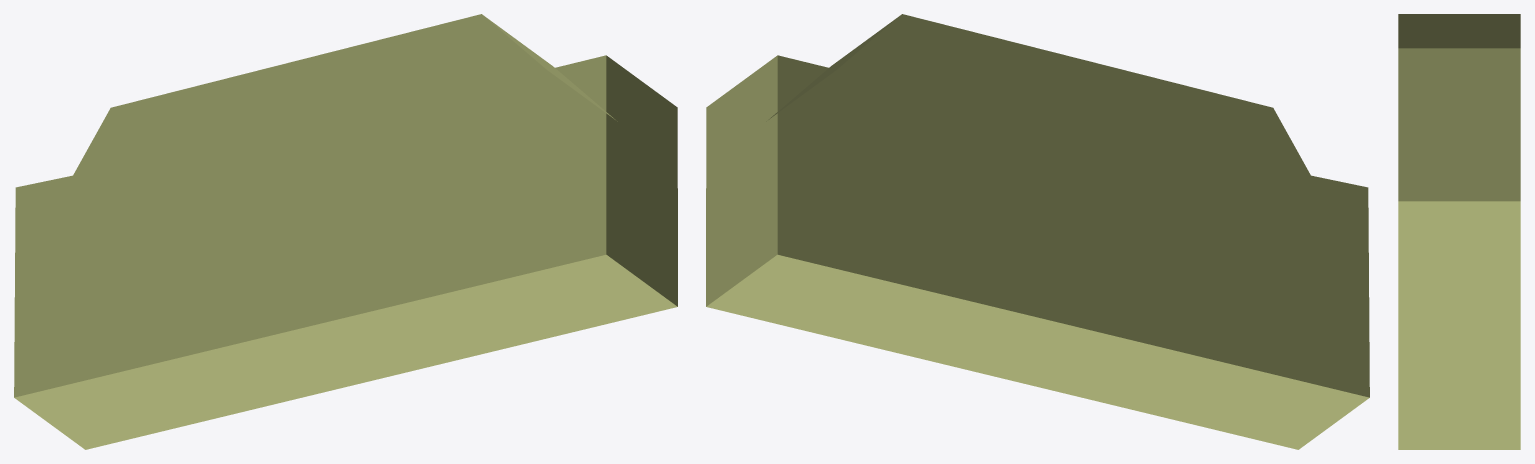
3 views of the same model, side by side, from view 1: azimuth 30°, elevation 25°; view 2: azimuth 150°, elevation 25°; view 3: azimuth 270°, elevation 25° (orthographic). The views are drawn at different scales.
Parts seen in each view (by area): view 1: 0_0_1_3_2_3_3_2_3; view 2: 0_0_1_3_2_3_3_2_3; view 3: 0_0_1_3_2_3_3_2_3.
Boxes of the visible parts, bbox=[...] form: 0_0_1_3_2_3_3_2_3: bbox=[14, 14, 677, 449]; 0_0_1_3_2_3_3_2_3: bbox=[706, 14, 1369, 449]; 0_0_1_3_2_3_3_2_3: bbox=[1398, 14, 1520, 449].
Bounding box in the file's own units: 28.73 × 12.57 × 6.
